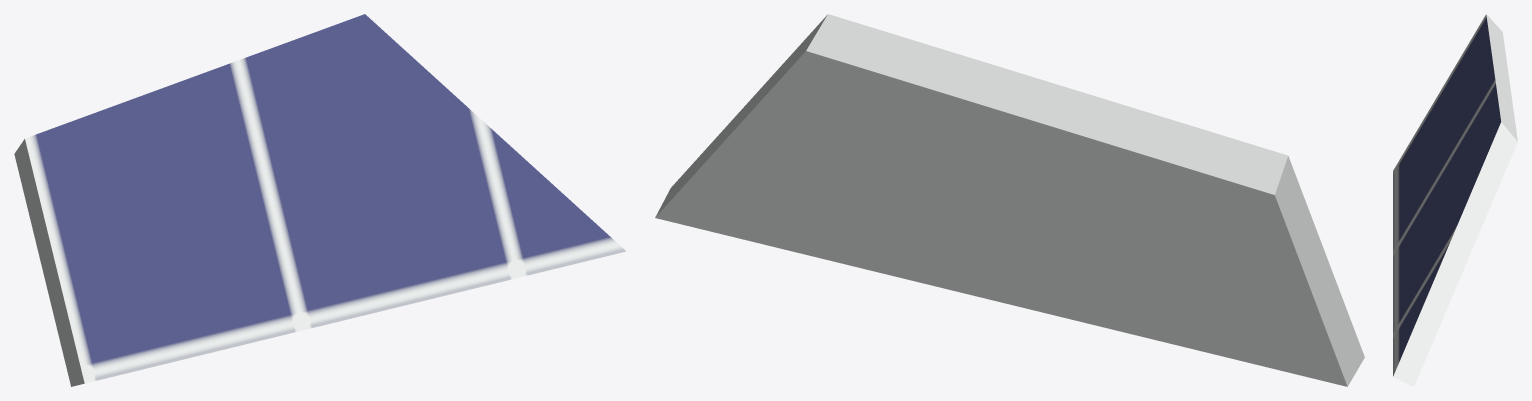
File: Fragment004.fbx
3 views of the same model, side by side, from view 1: azimuth 30°, elevation 25°; view 2: azimuth 150°, elevation 25°; view 3: azimuth 270°, elevation 25° (orthographic). The views are drawn at different scales.
Visible parts, largest first — view 1: SatelliteFrag.004; view 2: SatelliteFrag.004; view 3: SatelliteFrag.004.
Boxes of the visible parts, bbox=[...] form: SatelliteFrag.004: bbox=[14, 14, 626, 386]; SatelliteFrag.004: bbox=[655, 14, 1364, 386]; SatelliteFrag.004: bbox=[1393, 14, 1517, 386].
Bounding box in the file's own units: 204 × 88.6 × 52.16.
